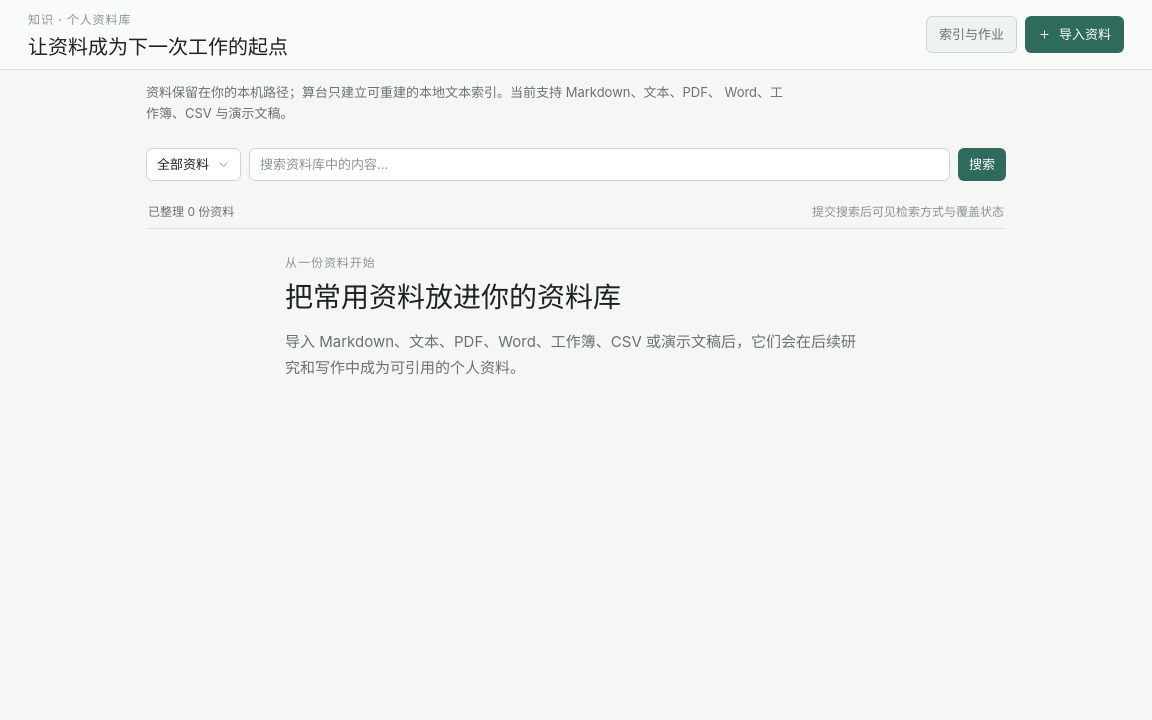
Test: KnowledgePage 索引管理护栏（KM09） › 启用语义检索前必须经过费用与范围确认，不静默启用
The width and height of the screenshot is (1152, 720).
What coordinates should you click on to do the following:
click the button "索引与作业"
I would click on:
 (972, 35)
Its box is 926,16 -> 1017,53.
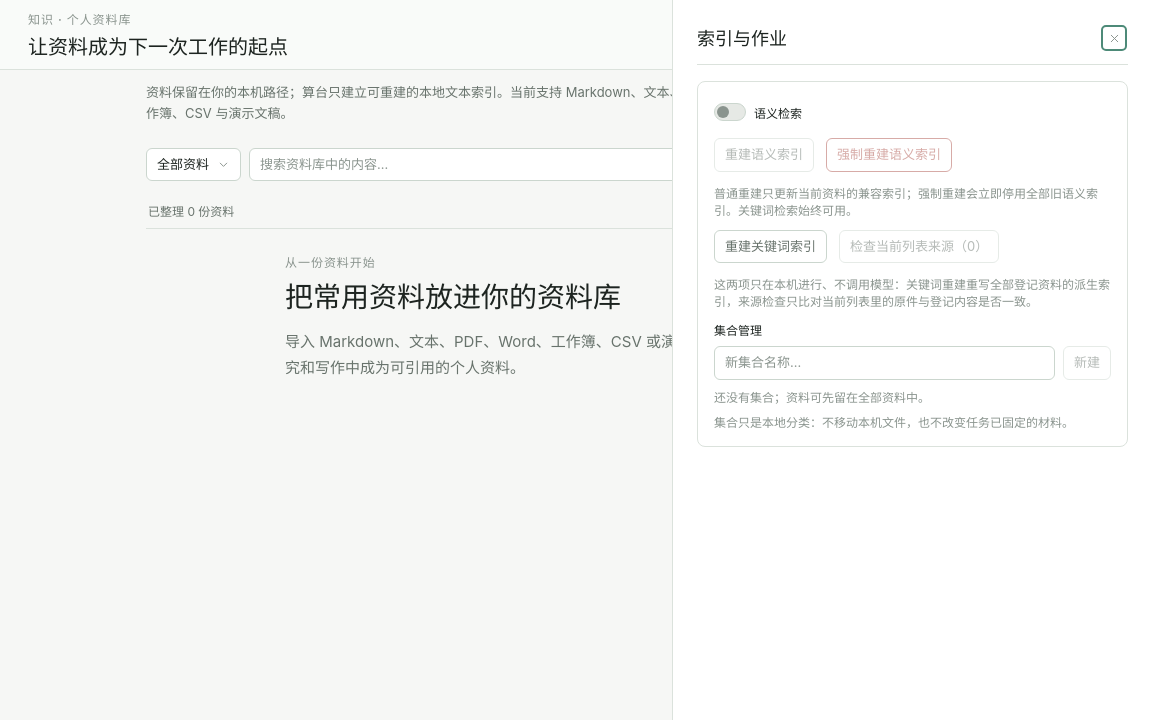
What coordinates should you click on to do the following:
click the switch labelled "语义检索"
I would click on:
 (758, 112)
Its box is 714,98 -> 802,126.
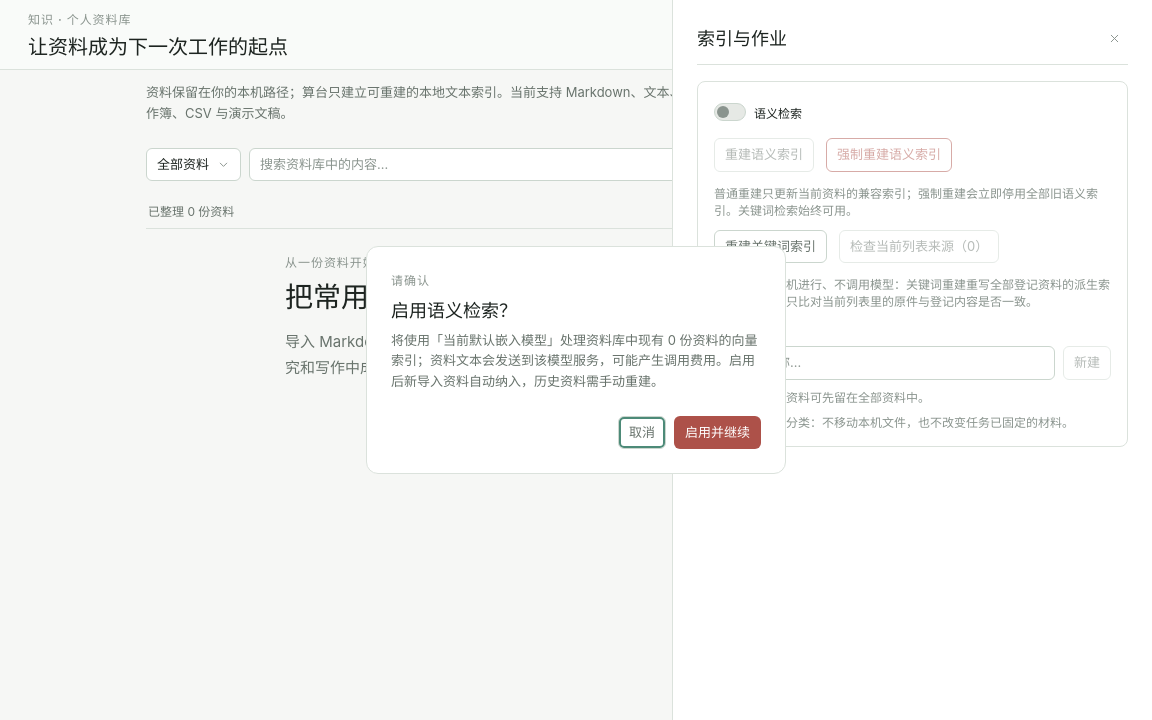
Expected: the heading "启用语义检索？" is shown, 391,296 -> 517,322
Expected: the text "可能产生调用费用" is shown, 391,332 -> 758,389
